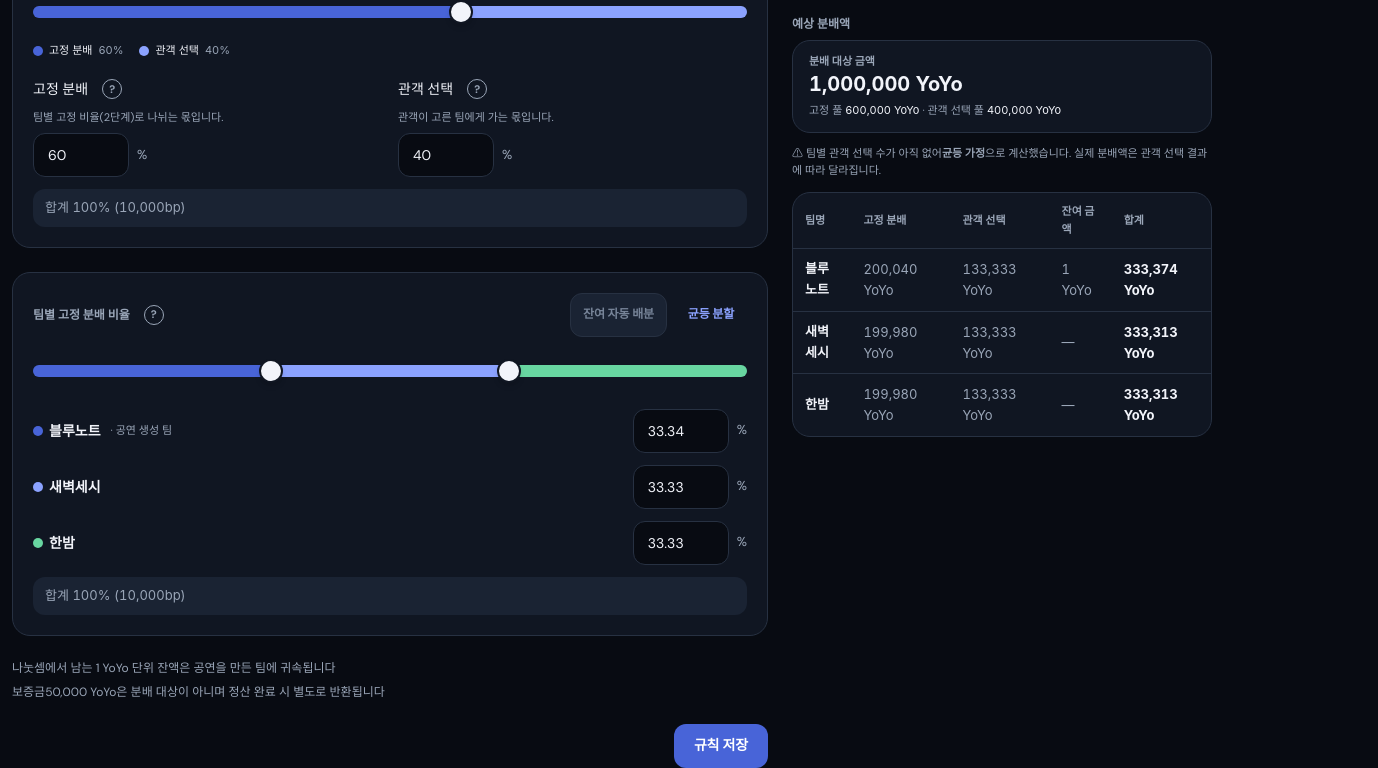
Test: P-05 2단계 팀 경계 막대 › 합이 틀린 초안도 드래그하면 마지막 팀이 나머지를 가져 저장 가능해진다
(page scrolled)
Step 1. Replace the text in the field labelled "한밤" with "10" → (681, 543), box x1=633 y1=521 x2=729 y2=565
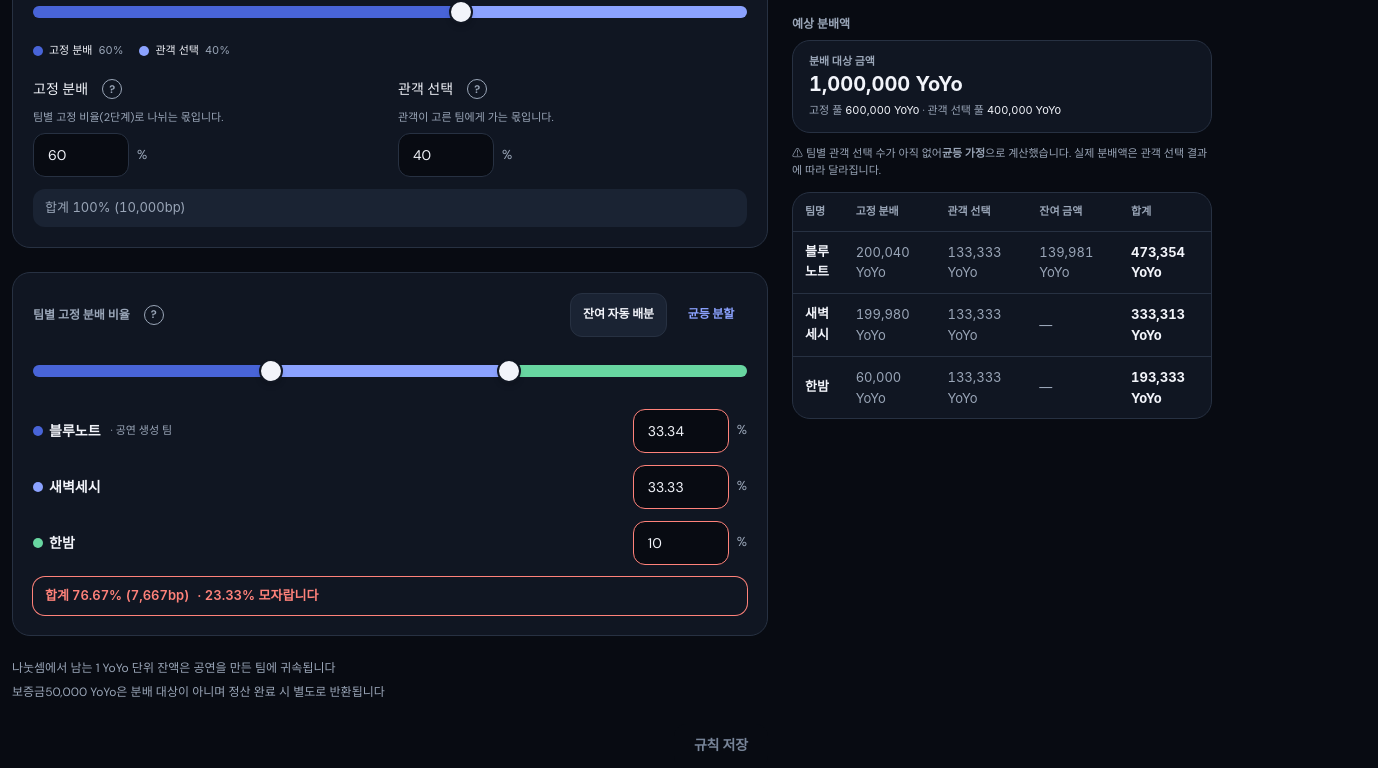
Step 2. Press ArrowRight in the slider named "경계", box x1=259 y1=359 x2=283 y2=383
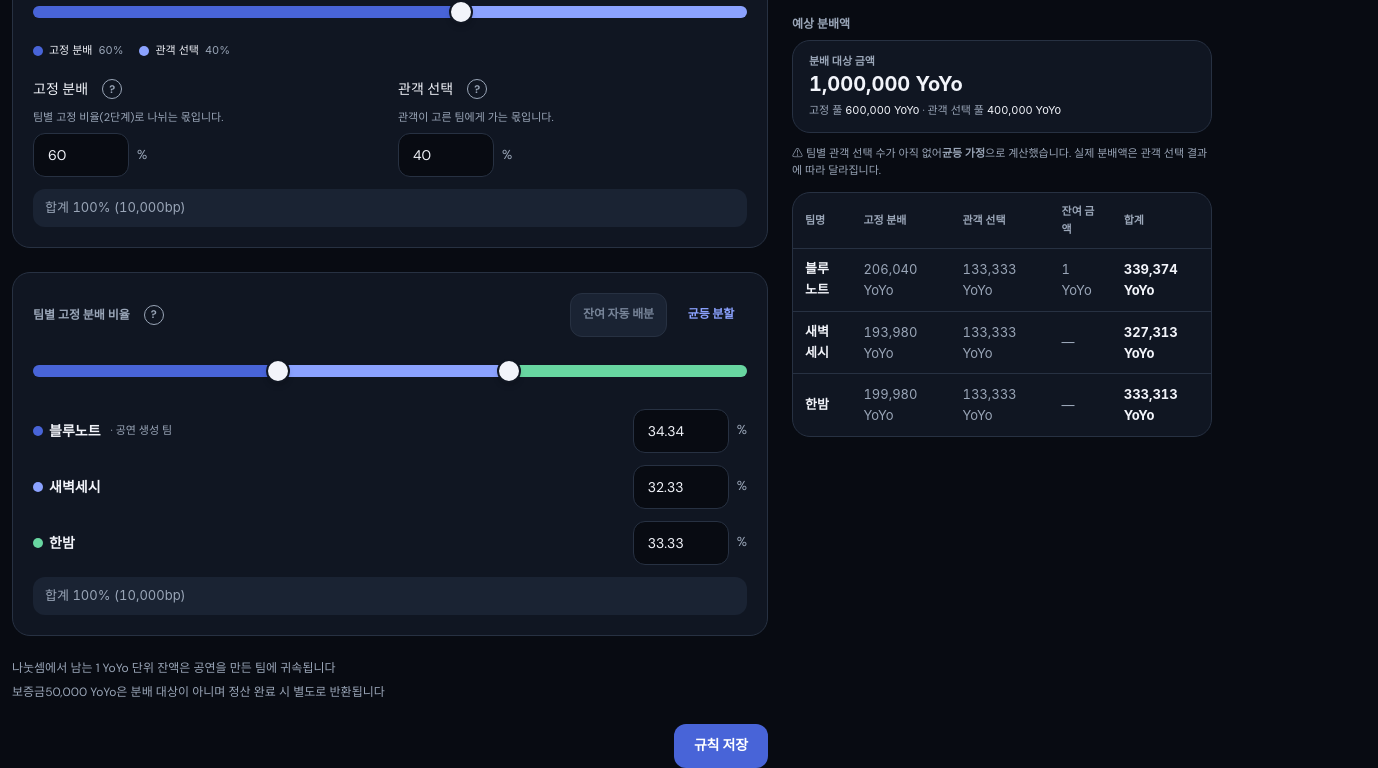
Check: the field labelled "한밤" holds "33.33", box x1=633 y1=521 x2=729 y2=565
